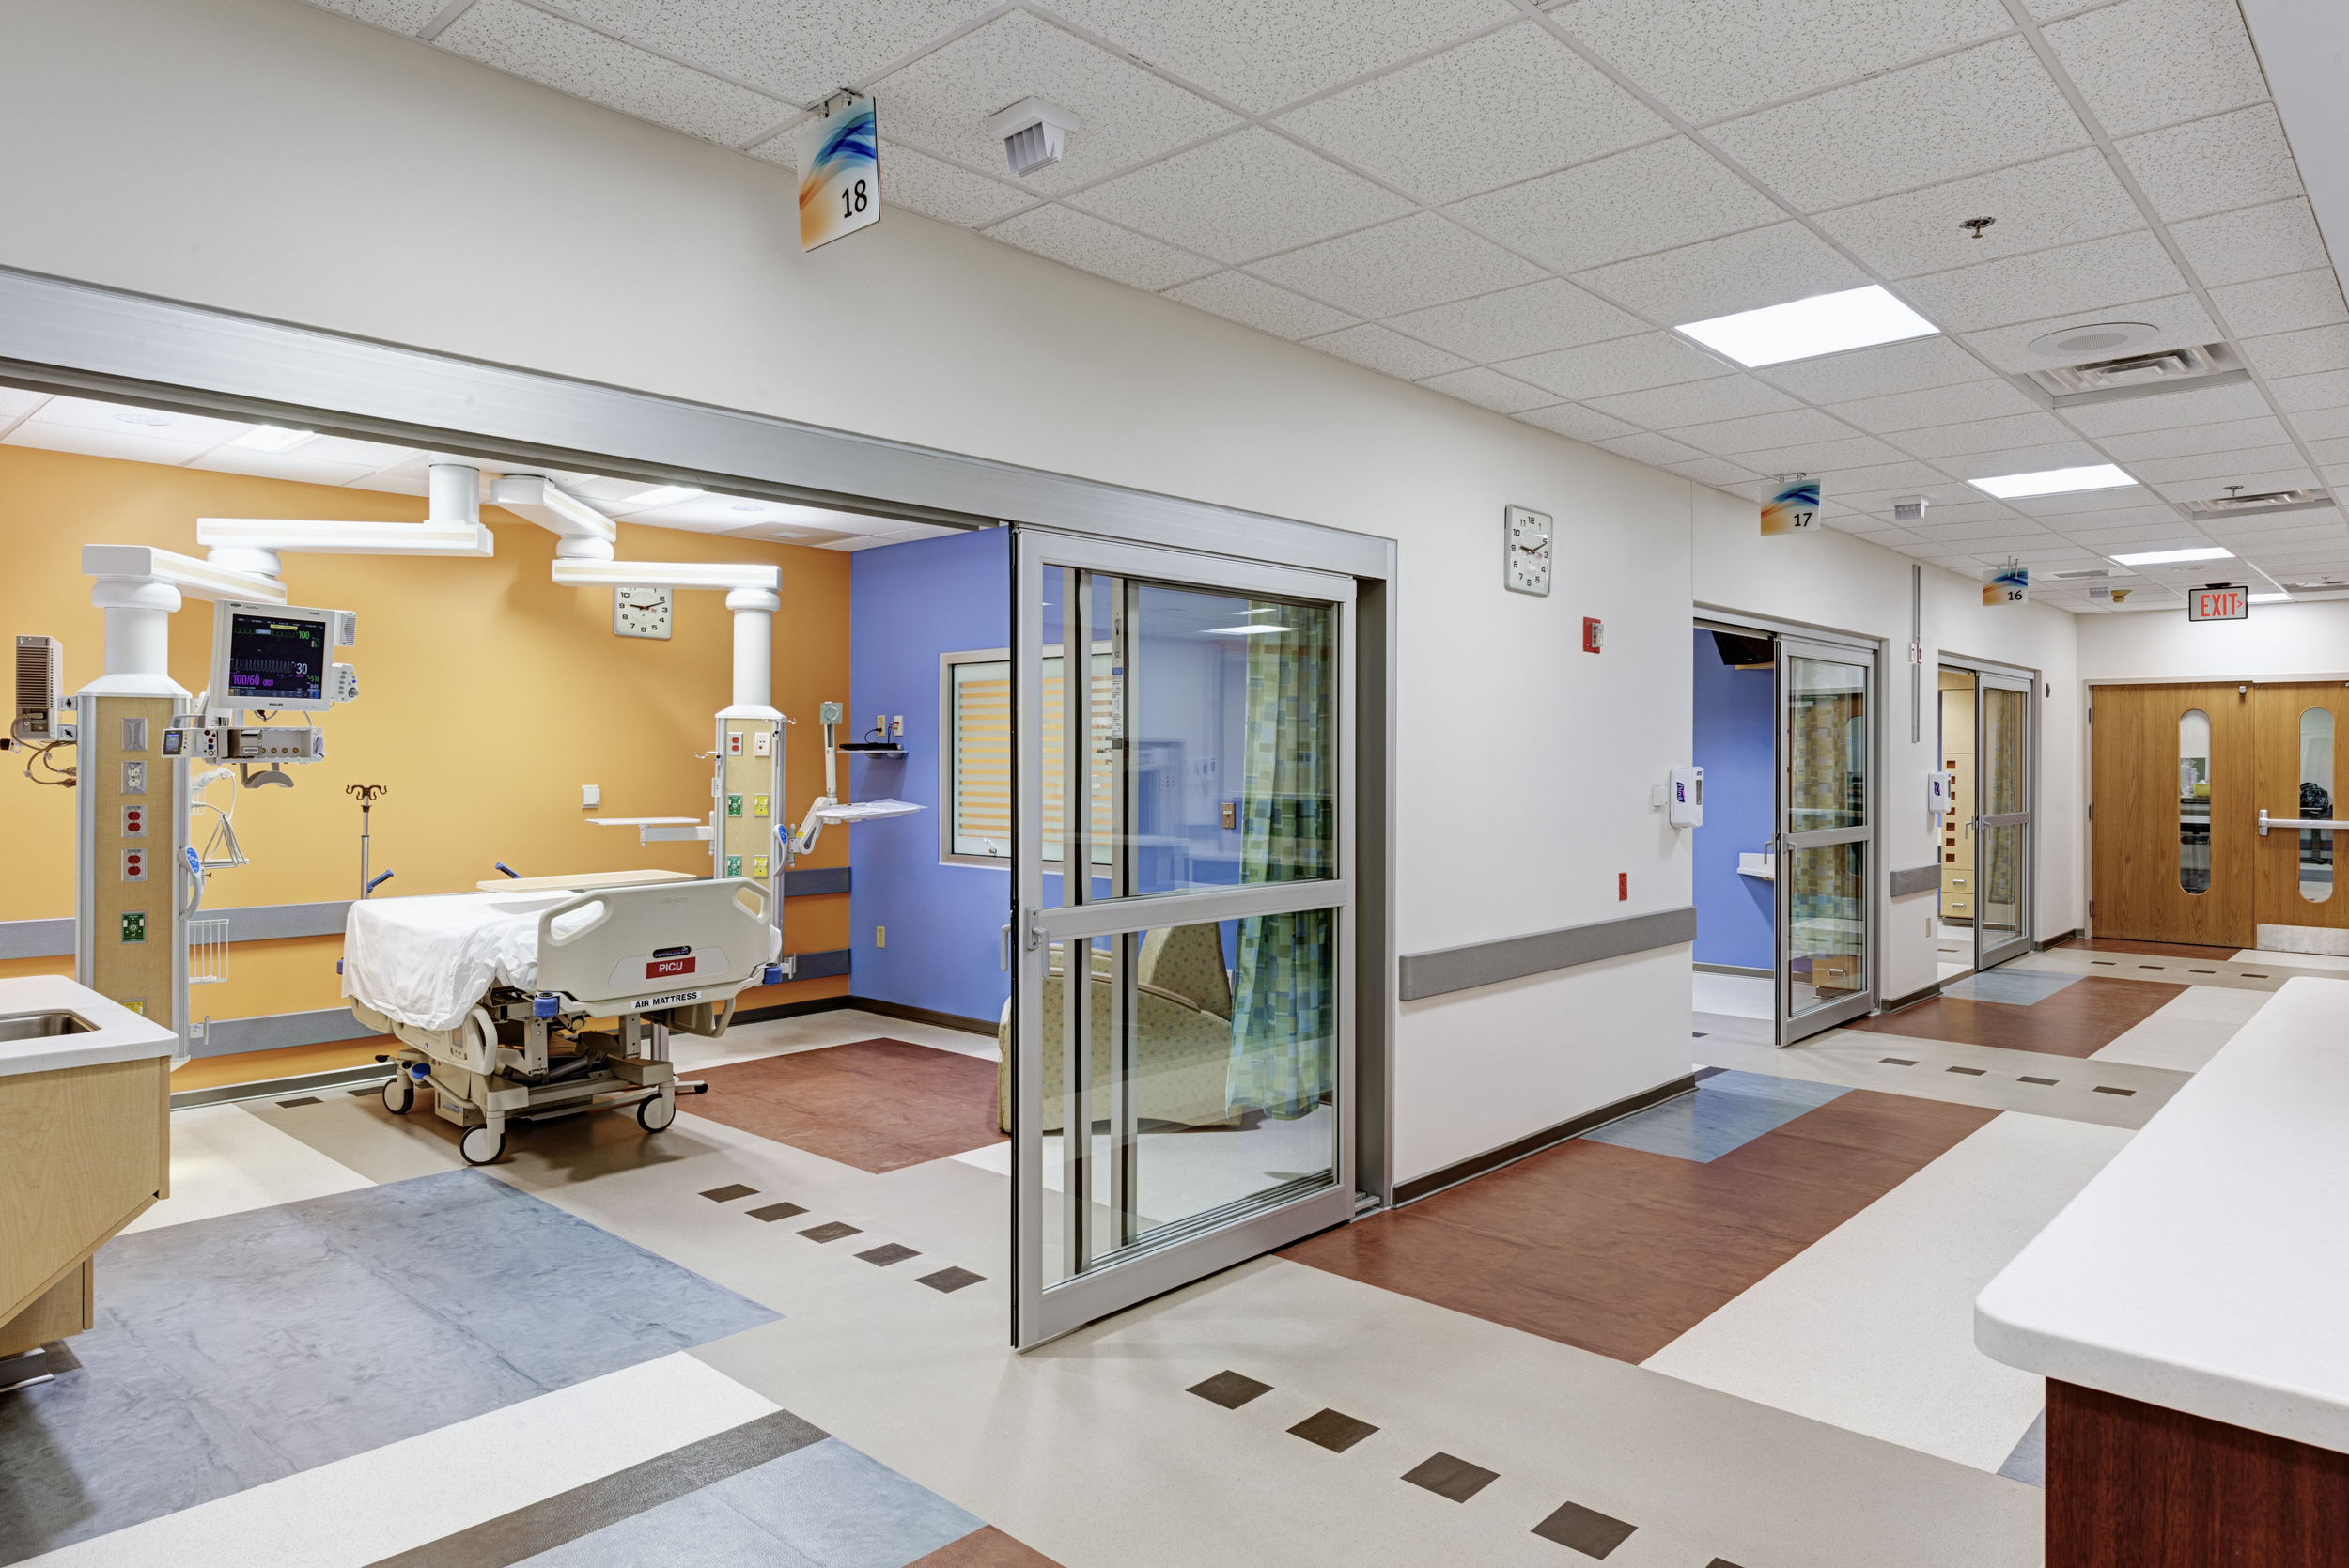bedrail: (348, 994, 499, 1076), (641, 997, 737, 1036)
bedside_monitor: (203, 598, 361, 710)
counter: (2, 975, 179, 1351)
countertop: (1964, 976, 2344, 1466), (2, 969, 189, 1092)
curtain: (1227, 597, 1330, 1120)
dispenser: (1670, 766, 1703, 829), (1929, 770, 1952, 814)
foot_board: (537, 877, 774, 1017)
handle: (1027, 908, 1050, 978), (999, 922, 1012, 973), (1784, 833, 1798, 868), (1763, 833, 1777, 864), (1964, 814, 1973, 840), (1827, 968, 1847, 976), (1985, 821, 1992, 840), (1952, 878, 1966, 887), (1952, 901, 1964, 910)
hospital_bed: (340, 877, 784, 1167)
iv_pole: (347, 784, 387, 898)
overbed_table: (476, 868, 698, 894)
push_latch: (2258, 810, 2349, 836)
sink: (5, 999, 109, 1050)
sofa: (994, 896, 1239, 1137)
